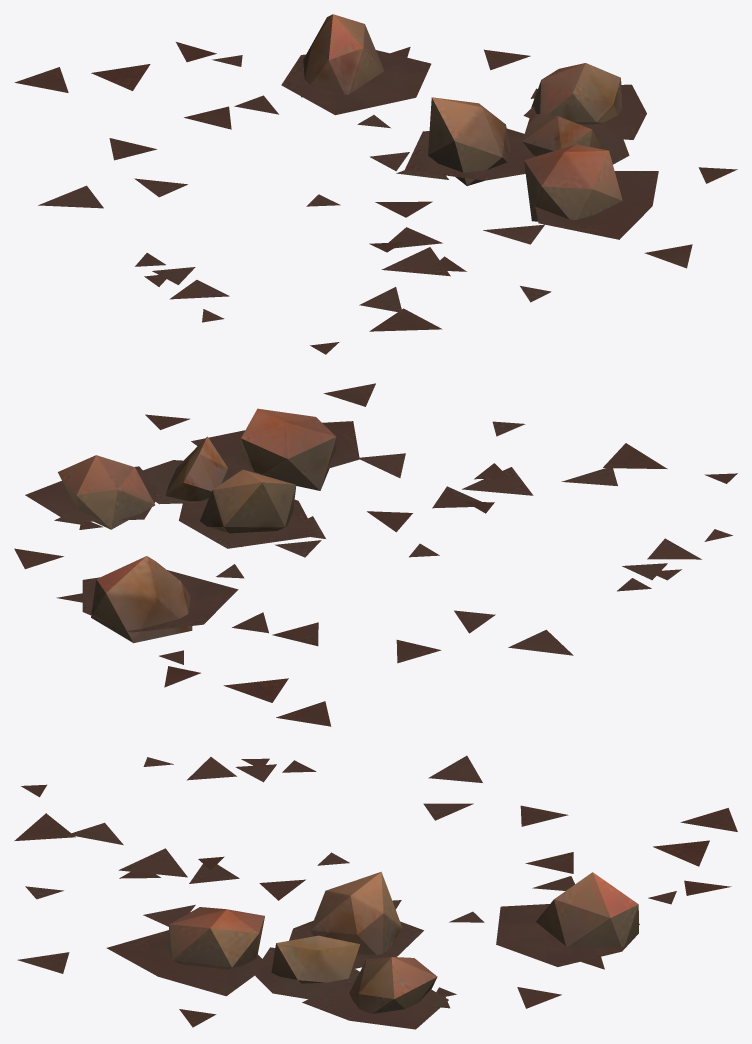
Rendered from copper-ore-sparse.glb.
3 renders of one model, top to bottom at view 1: azimuth 30°, elevation 25°; view 2: azimuth 150°, elevation 25°; view 3: azimuth 270°, elevation 25°, orthographic. The views are drawn at different scales.
Visible parts, largest first — view 1: copper-ore-sparse; view 2: copper-ore-sparse; view 3: copper-ore-sparse.
Boxes of the visible parts, box(x1,y1,x2,y2) form: copper-ore-sparse: box(14, 14, 737, 354); copper-ore-sparse: box(14, 383, 737, 726); copper-ore-sparse: box(14, 755, 737, 1029).
Size of the model in its own units: 1.05 by 0.1376 by 1.17.
1 material, 1 textured.
